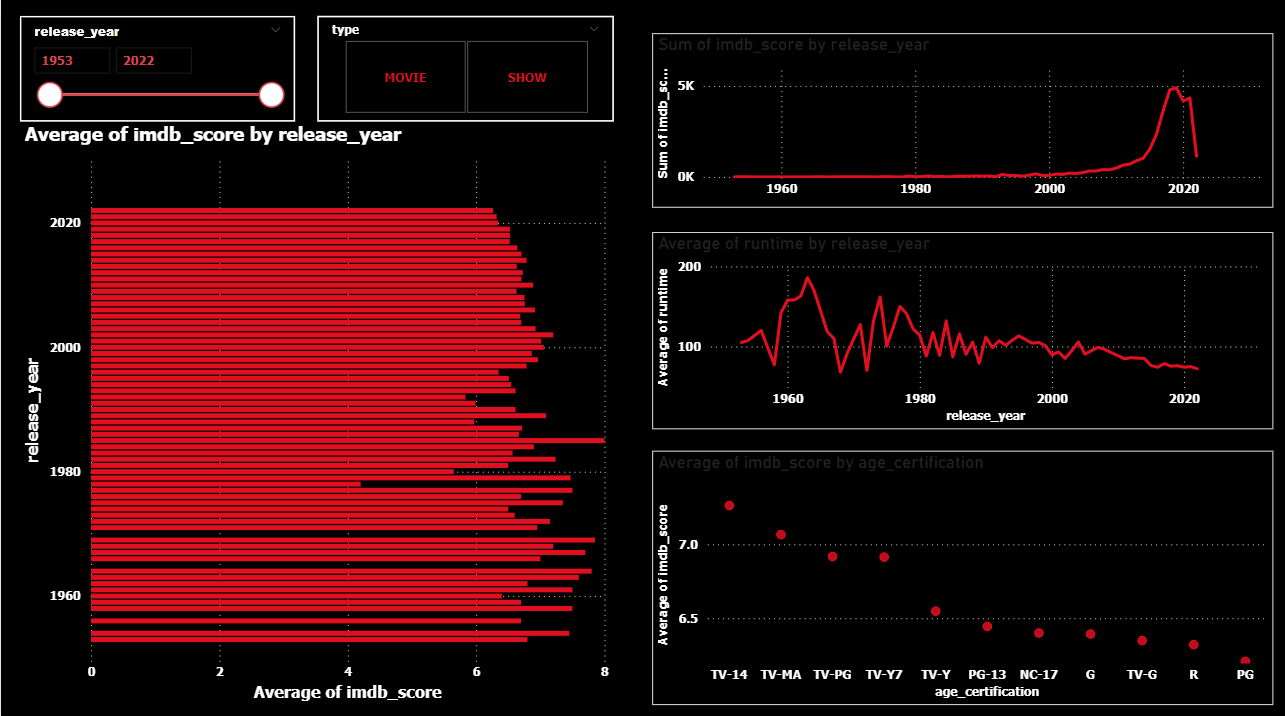

The dashboard page shown, as its layout file describes it:
{"tool":"powerbi","page":{"name":"Page 3","canvas":[1280,720],"ordinal":2},"visuals":[{"type":"slicer","fields":{"Values":["Netflix TV Shows and Movies.release_year"]},"box":[17.8,17.8,270.3,104.3],"z":0},{"type":"clusteredBarChart","fields":{"Category":["Netflix TV Shows and Movies.release_year"],"Y":["Avg(Netflix TV Shows and Movies.imdb_score)"]},"box":[17.8,122.1,583.2,573.6],"z":1000},{"type":"lineChart","fields":{"Category":["Netflix TV Shows and Movies.release_year"],"Y":["Sum(Netflix TV Shows and Movies.imdb_score)"]},"box":[639.5,35.7,609.3,171.5],"z":2000},{"type":"lineChart","fields":{"Category":["Netflix TV Shows and Movies.release_year"],"Y":["Avg(Netflix TV Shows and Movies.runtime)"]},"box":[639.5,230.5,609.3,193.5],"z":3000},{"type":"scatterChart","fields":{"X":["Netflix TV Shows and Movies.age_certification"],"Y":["Avg(Netflix TV Shows and Movies.imdb_score)"],"Size":["select"]},"box":[639.5,446,609.3,249.7],"z":4000},{"type":"slicer","fields":{"Values":["Netflix TV Shows and Movies.type"]},"box":[310.1,17.8,290.9,104.3],"z":5000}]}

Visuals, with their boxes in screenshot pixels (x1, y1, x2, y2), scaled from the page's 1280x720 canvas onto the 1285x716 screenshot:
slicer - Netflix TV Shows and Movies.release_year: detection(18, 18, 289, 121)
clusteredBarChart - Netflix TV Shows and Movies.release_year x Avg(Netflix TV Shows and Movies.imdb_score): detection(18, 121, 603, 692)
lineChart - Netflix TV Shows and Movies.release_year x Sum(Netflix TV Shows and Movies.imdb_score): detection(642, 36, 1254, 206)
lineChart - Netflix TV Shows and Movies.release_year x Avg(Netflix TV Shows and Movies.runtime): detection(642, 229, 1254, 422)
scatterChart - Netflix TV Shows and Movies.age_certification x Avg(Netflix TV Shows and Movies.imdb_score): detection(642, 444, 1254, 692)
slicer - Netflix TV Shows and Movies.type: detection(311, 18, 603, 121)
